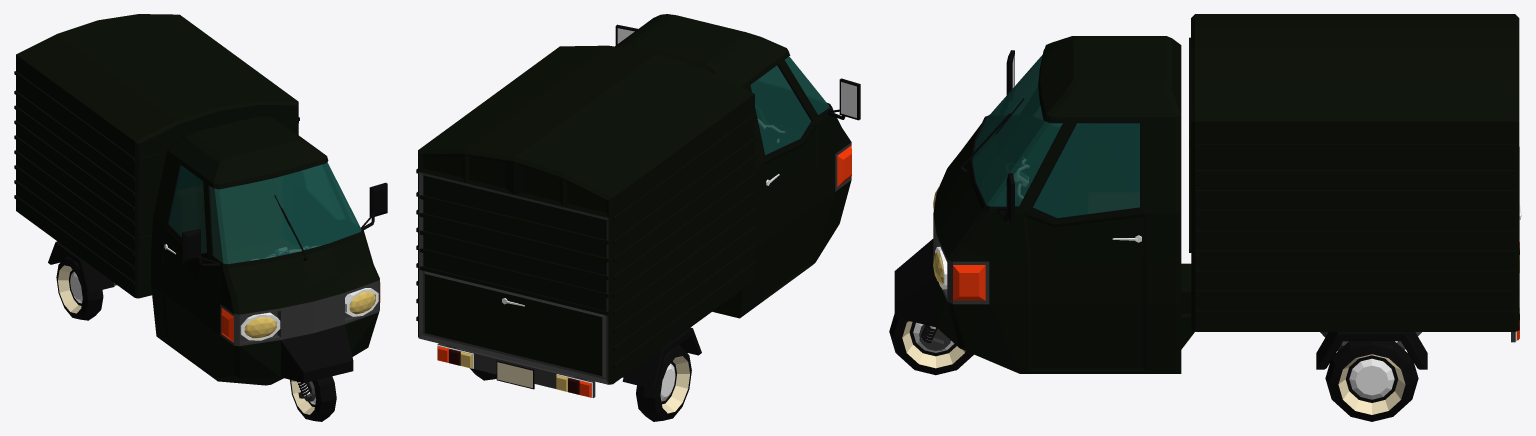
Rendered from 3Wheeler_06.FBX.
The picture shows the model from 3 angles, left to right: view 1: azimuth 30°, elevation 25°; view 2: azimuth 150°, elevation 25°; view 3: azimuth 270°, elevation 25°; orthographic projection. The views are drawn at different scales.
Visible parts, largest first — view 1: 3Wheeler_06, interior, wheel_b-r, wheel_f, headLights, lights, mirror_r, mirror_l, indicatorLights_r; view 2: 3Wheeler_06, interior, wheel_b-r, mirror_r, licensePlate_b, indicatorLights_r; view 3: 3Wheeler_06, interior, wheel_b-l, wheel_f, indicatorLights_l.
Boxes of the visible parts, left/top/right/bottom form: 3Wheeler_06: left=14, top=14, right=379, bottom=385; interior: left=168, top=163, right=361, bottom=263; wheel_b-r: left=56, top=256, right=103, bottom=320; wheel_f: left=290, top=376, right=336, bottom=421; headLights: left=244, top=291, right=375, bottom=338; lights: left=240, top=288, right=378, bottom=340; mirror_r: left=182, top=229, right=219, bottom=266; mirror_l: left=361, top=182, right=387, bottom=229; indicatorLights_r: left=221, top=308, right=233, bottom=342; 3Wheeler_06: left=416, top=14, right=851, bottom=397; interior: left=750, top=57, right=829, bottom=154; wheel_b-r: left=636, top=345, right=691, bottom=421; mirror_r: left=828, top=78, right=860, bottom=120; licensePlate_b: left=496, top=361, right=534, bottom=389; indicatorLights_r: left=579, top=145, right=851, bottom=397; 3Wheeler_06: left=894, top=14, right=1521, bottom=373; interior: left=973, top=55, right=1139, bottom=217; wheel_b-l: left=1325, top=341, right=1418, bottom=421; wheel_f: left=889, top=314, right=973, bottom=375; indicatorLights_l: left=953, top=265, right=1519, bottom=340.
Size of the model in its own units: 14.34 by 16.22 by 28.58.
